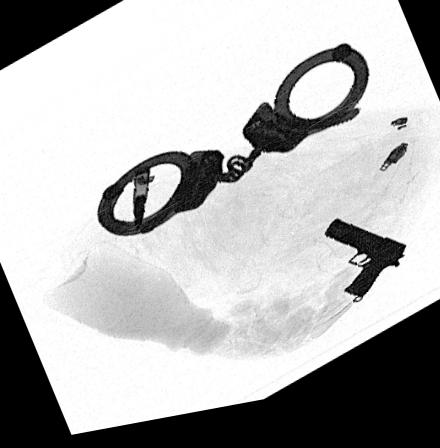Bullet: (131, 172, 149, 234)
Gun: (322, 231, 407, 311)
HandCuffs: (92, 52, 369, 242)
